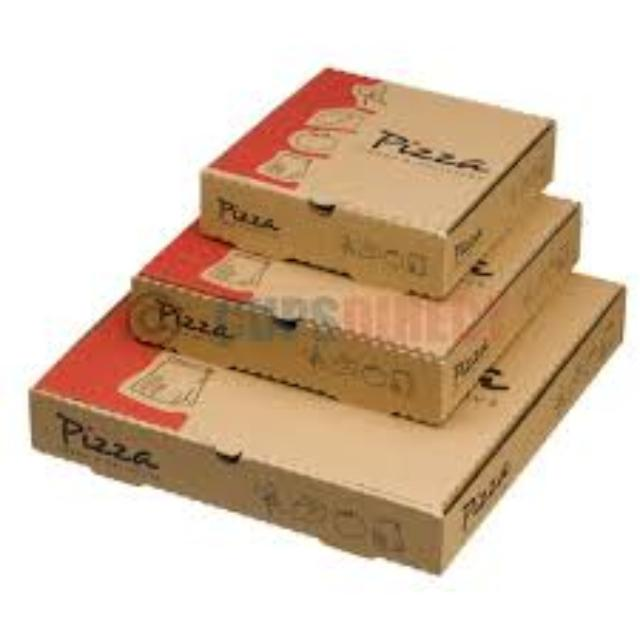cardboard paper: (28, 270, 620, 566), (131, 191, 582, 427), (196, 65, 549, 293)
